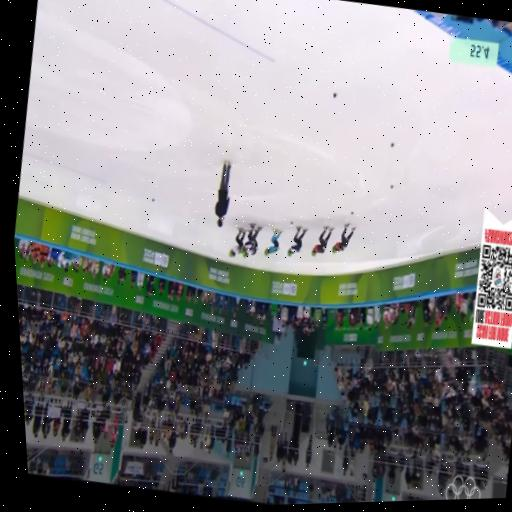Skater: (332, 223, 355, 253), (242, 223, 262, 256), (311, 227, 332, 255), (287, 227, 307, 255), (229, 227, 245, 256), (264, 229, 281, 255)
